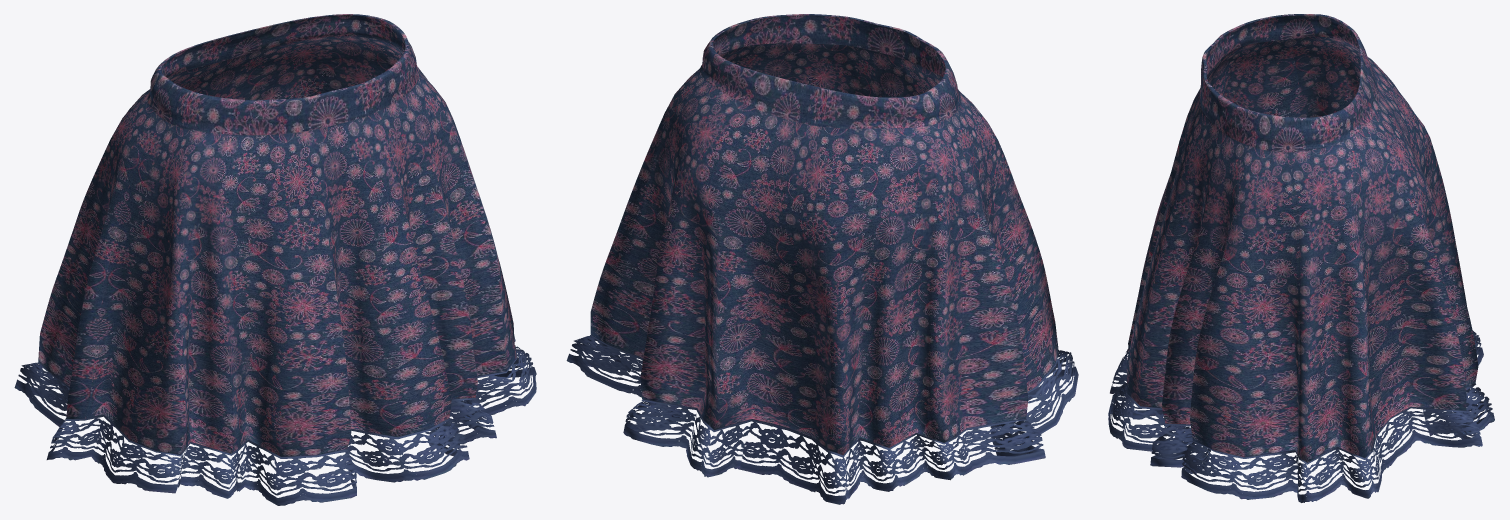
File: toigo-skirt-with-lace-ruffle.glb
3 renders of one model, left to right at view 1: azimuth 30°, elevation 25°; view 2: azimuth 150°, elevation 25°; view 3: azimuth 270°, elevation 25°, orthographic. The views are drawn at different scales.
Visible parts, largest first — view 1: skirt with lace ruffle; view 2: skirt with lace ruffle; view 3: skirt with lace ruffle.
Boxes of the visible parts, left/top/right/bottom form: skirt with lace ruffle: left=14, top=14, right=536, bottom=505; skirt with lace ruffle: left=566, top=14, right=1078, bottom=504; skirt with lace ruffle: left=1108, top=14, right=1494, bottom=502.
Bounding box in the file's own units: 55.65 × 43.35 × 42.4.
Materials: 1 (1 with a texture image).
